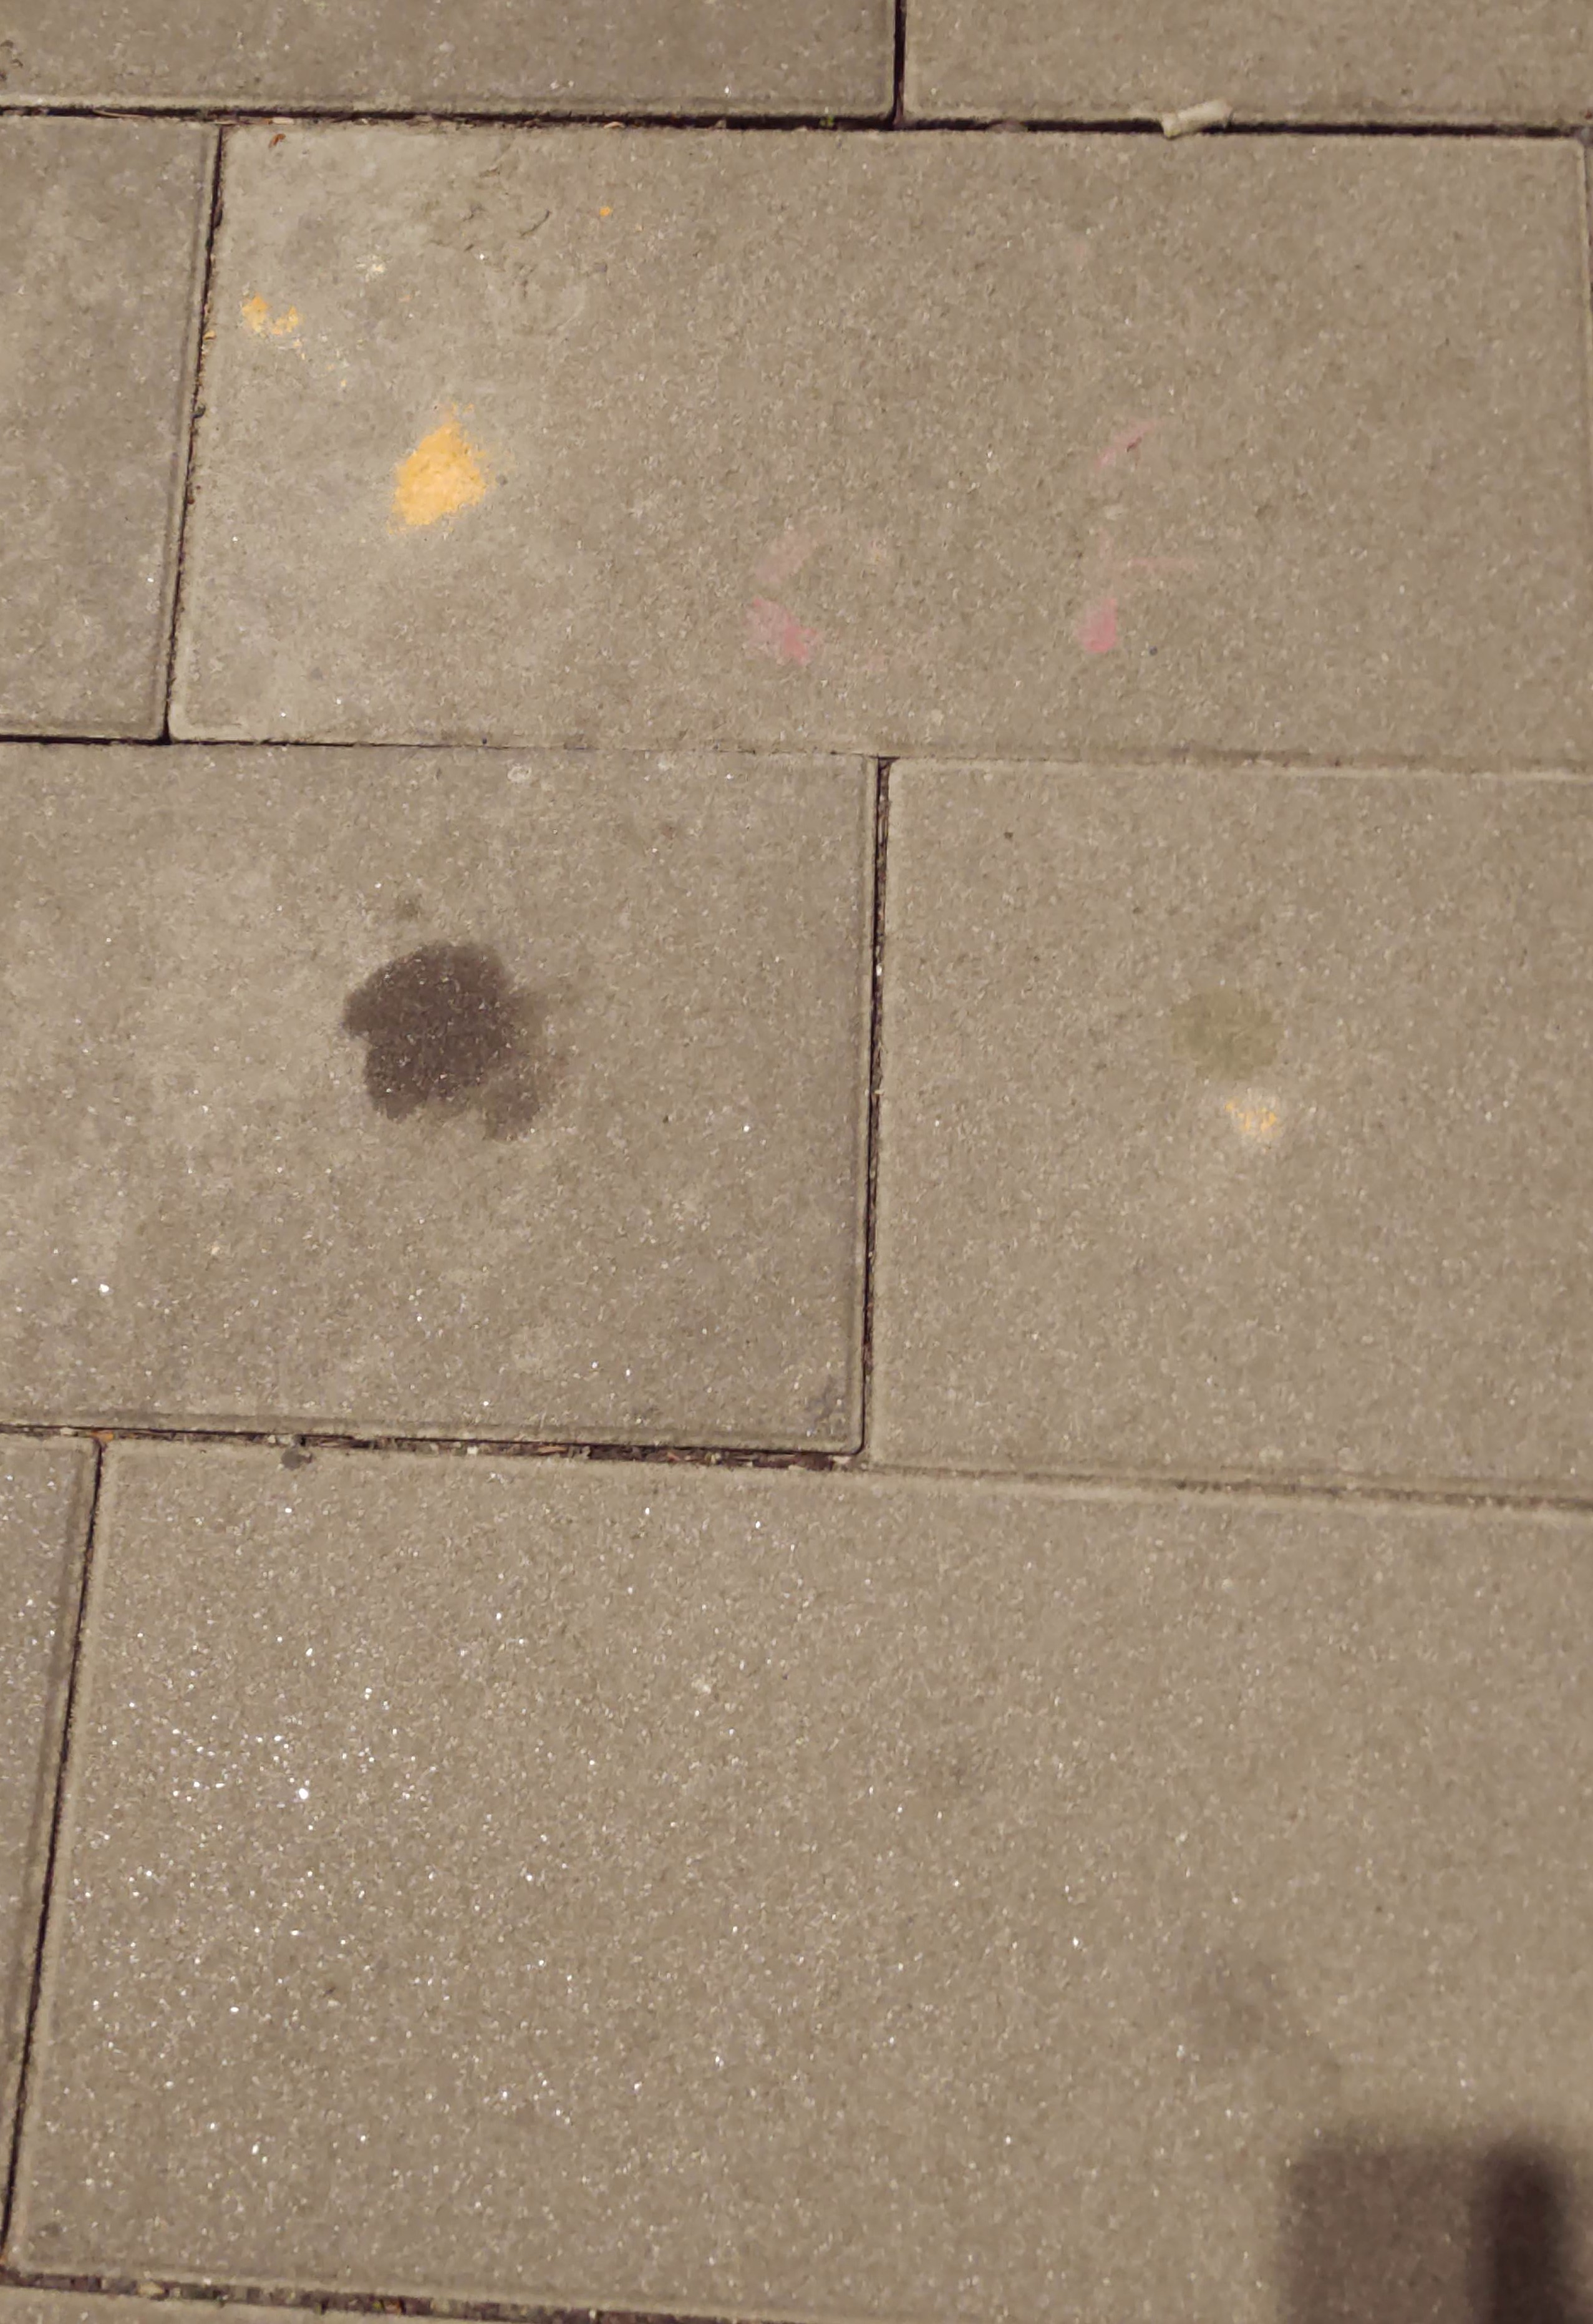ash pile: (389, 415, 491, 530), (238, 295, 318, 366)
grey spot: (344, 945, 558, 1143)
